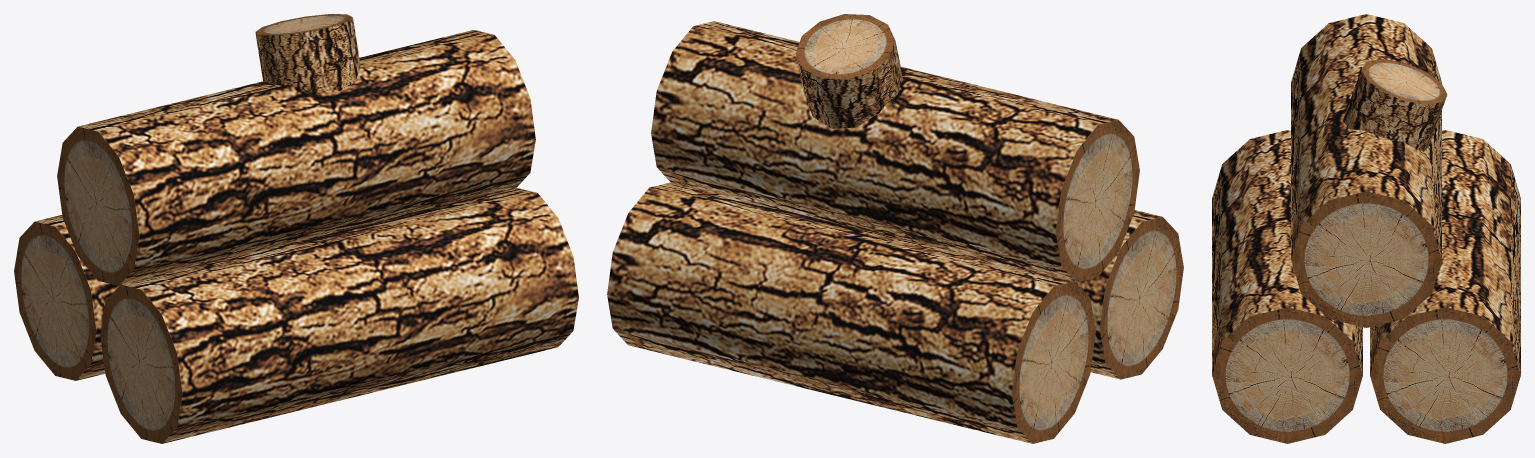
File: static.fbx
3 renders of one model, left to right at view 1: azimuth 30°, elevation 25°; view 2: azimuth 150°, elevation 25°; view 3: azimuth 270°, elevation 25°, orthographic. The views are drawn at different scales.
Parts seen in each view (by area): view 1: Cylinder, Cylinder_4, Cylinder_2, Cylinder_3; view 2: Cylinder_2, Cylinder_4, Cylinder, Cylinder_3; view 3: Cylinder_4, Cylinder, Cylinder_2, Cylinder_3.
Part boxes in pixels (x1,y1,x2,y2): Cylinder: (100,188,578,443); Cylinder_4: (57,30,535,285); Cylinder_2: (14,215,118,380); Cylinder_3: (255,14,360,92); Cylinder_2: (607,182,1095,443); Cylinder_4: (651,21,1139,282); Cylinder: (1076,210,1183,379); Cylinder_3: (795,14,903,128); Cylinder_4: (1291,14,1441,327); Cylinder: (1212,130,1362,443); Cylinder_2: (1370,130,1520,443); Cylinder_3: (1343,59,1447,151).
Size of the model in its own units: 90.35 by 71.03 by 66.5.
2 materials, 2 textured.
